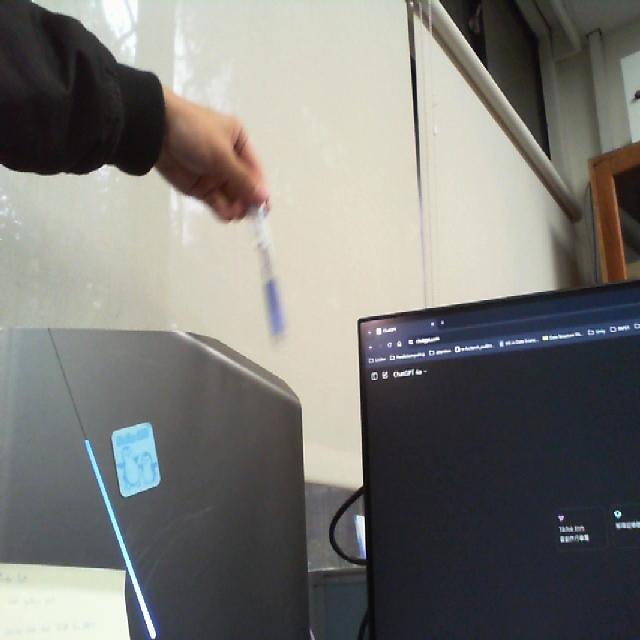Pen: (232, 159, 298, 354)
